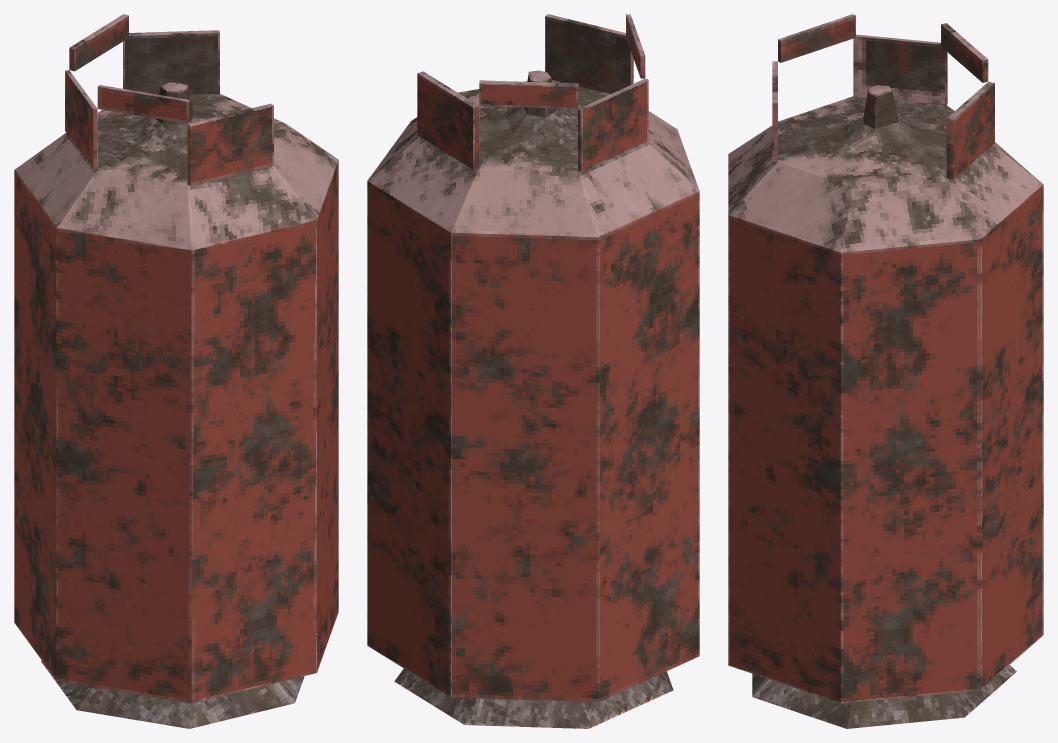
The model's file is GasCylinder.glb.
The picture shows the model from 3 angles, left to right: view 1: azimuth 30°, elevation 25°; view 2: azimuth 150°, elevation 25°; view 3: azimuth 270°, elevation 25°; orthographic projection. The views are drawn at different scales.
Visible parts, largest first — view 1: Cylinder; view 2: Cylinder; view 3: Cylinder.
Part boxes in pixels (x1,y1,x2,y2): Cylinder: (14,14,338,728); Cylinder: (367,14,699,728); Cylinder: (728,14,1043,728).
Bounding box in the file's own units: 0.4341 × 0.907 × 0.4233.
Materials: 1 (1 with a texture image).
